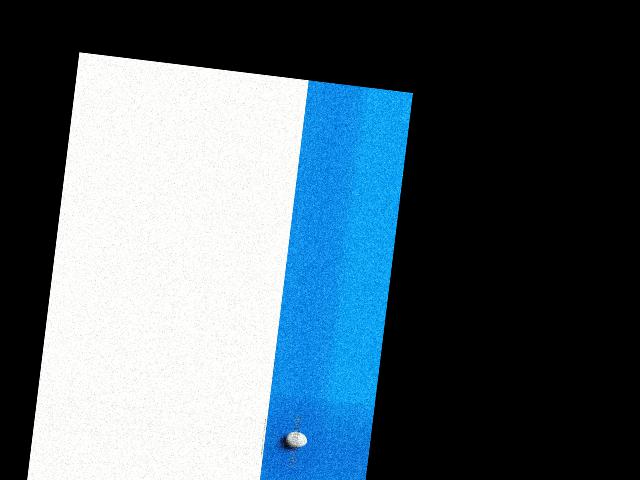egg: (284, 431, 308, 449)
